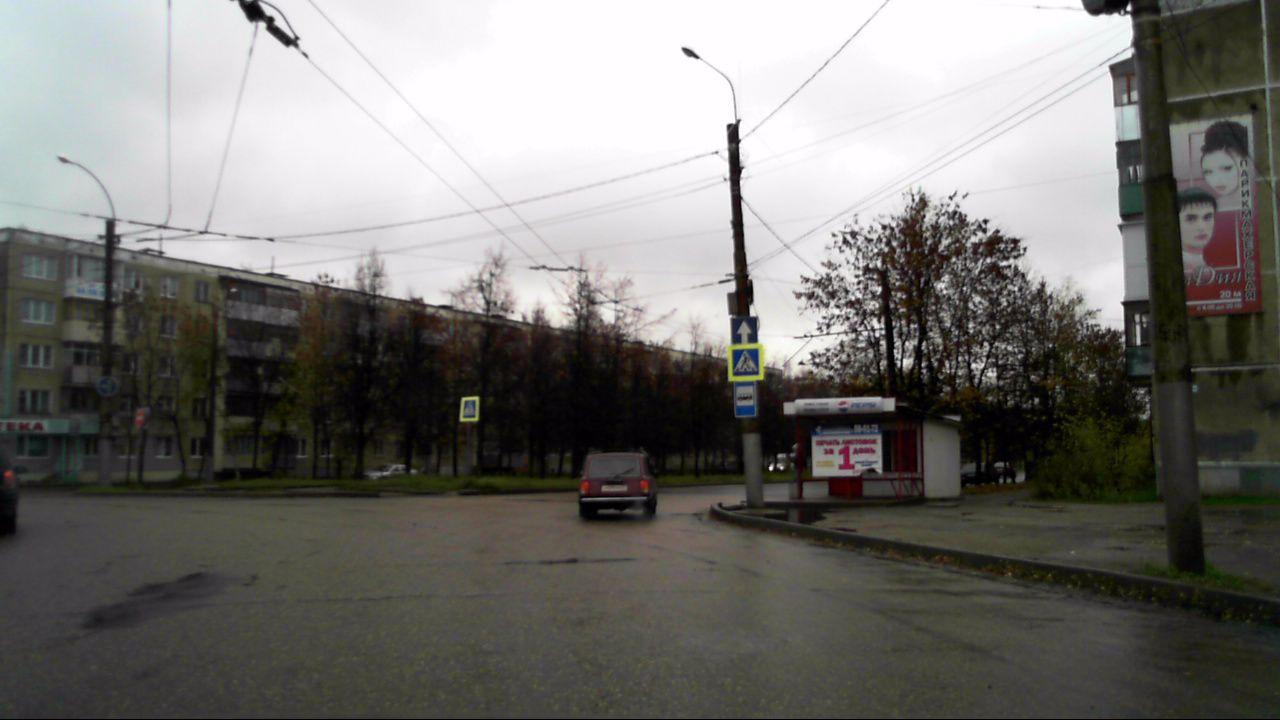3_1: (135, 411, 146, 427)
4_1_5: (96, 375, 119, 397)
5_16: (733, 382, 756, 417)
5_19_1: (731, 347, 760, 375)
5_19_2: (464, 400, 477, 419)
5_5: (732, 317, 758, 345)
